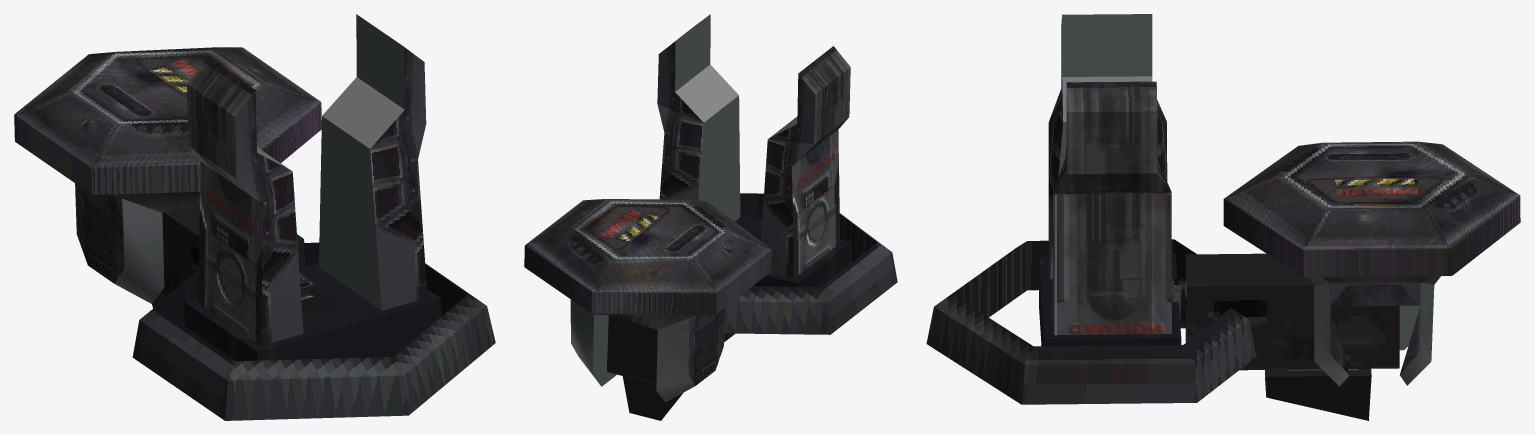
Rendered from miniturret.glb.
3 renders of one model, left to right at view 1: azimuth 30°, elevation 25°; view 2: azimuth 150°, elevation 25°; view 3: azimuth 270°, elevation 25°, orthographic. The views are drawn at different scales.
Parts seen in each view (by area): view 1: valve/models/miniturret.mdl; view 2: valve/models/miniturret.mdl; view 3: valve/models/miniturret.mdl.
Boxes of the visible parts, box(x1,y1,x2,y2) form: valve/models/miniturret.mdl: box(14, 14, 495, 420); valve/models/miniturret.mdl: box(524, 14, 897, 420); valve/models/miniturret.mdl: box(926, 14, 1520, 420).
Bounding box in the file's own units: 27.33 × 34.89 × 51.47.
13 materials, 13 textured.
